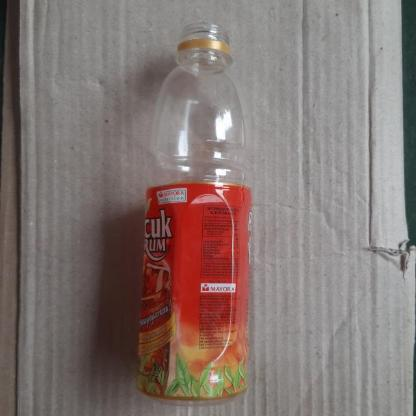Plastic Bottle: (136, 22, 254, 404)
